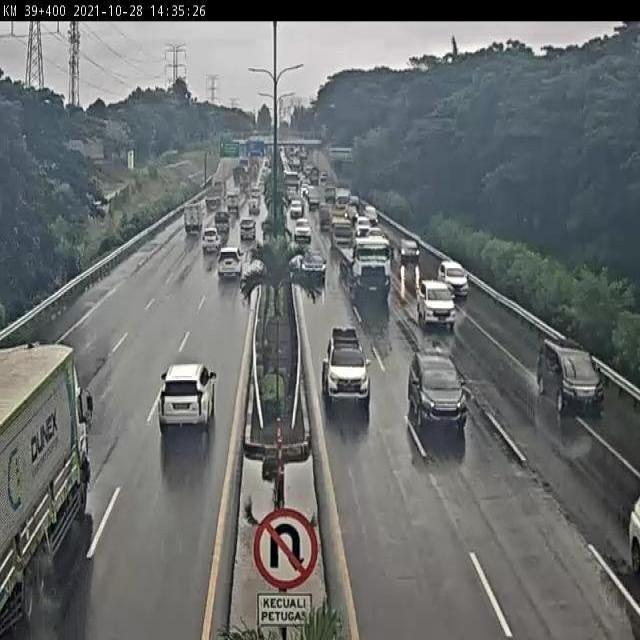big truck: (0, 342, 102, 626), (346, 228, 396, 299)
car: (144, 349, 222, 463), (533, 335, 607, 420), (408, 344, 474, 437), (322, 318, 372, 406), (414, 276, 461, 335), (212, 242, 244, 294), (438, 249, 473, 291), (299, 246, 328, 286), (233, 223, 260, 260), (396, 231, 425, 264), (201, 227, 224, 268)
small truck: (172, 200, 206, 249)
